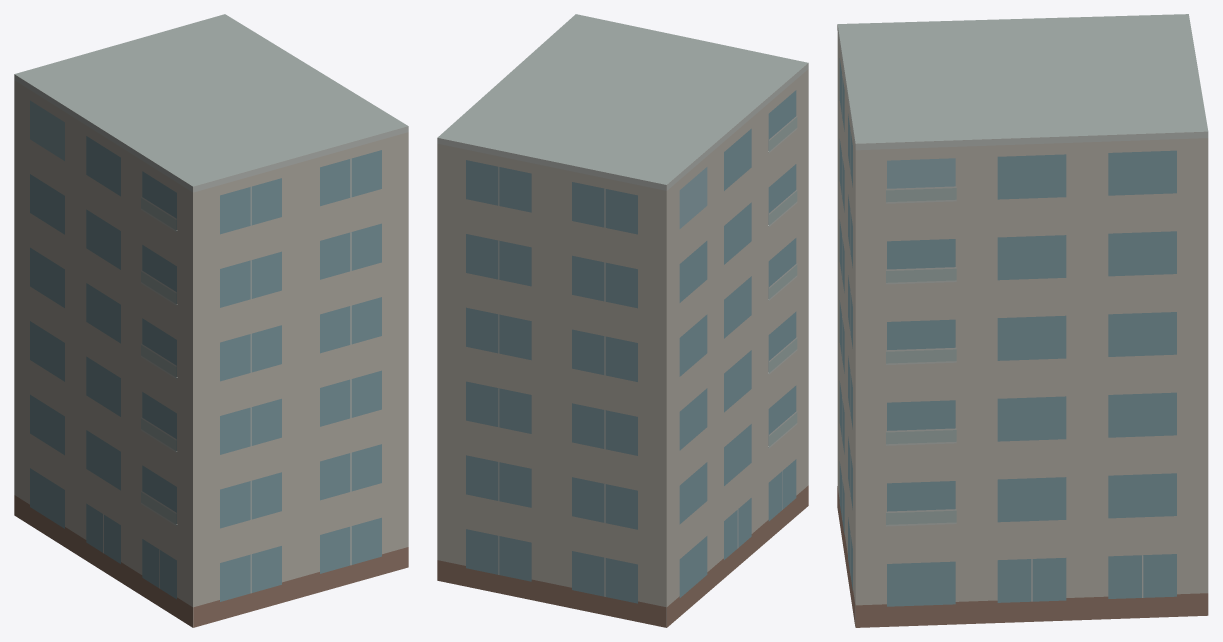
The model's file is survey-upis-32945716.glb.
3 views of the same model, side by side, from view 1: azimuth 30°, elevation 25°; view 2: azimuth 150°, elevation 25°; view 3: azimuth 270°, elevation 25° (orthographic). The views are drawn at different scales.
Parts seen in each view (by area): view 1: survey-upis-32945716.tmp; view 2: survey-upis-32945716.tmp; view 3: survey-upis-32945716.tmp.
Part boxes in pixels (box(x1,y1,x2,y2)): survey-upis-32945716.tmp: box(14, 14, 408, 627); survey-upis-32945716.tmp: box(437, 14, 808, 627); survey-upis-32945716.tmp: box(837, 14, 1208, 627).
Bounding box in the file's own units: 10.45 × 18.15 × 12.61.
